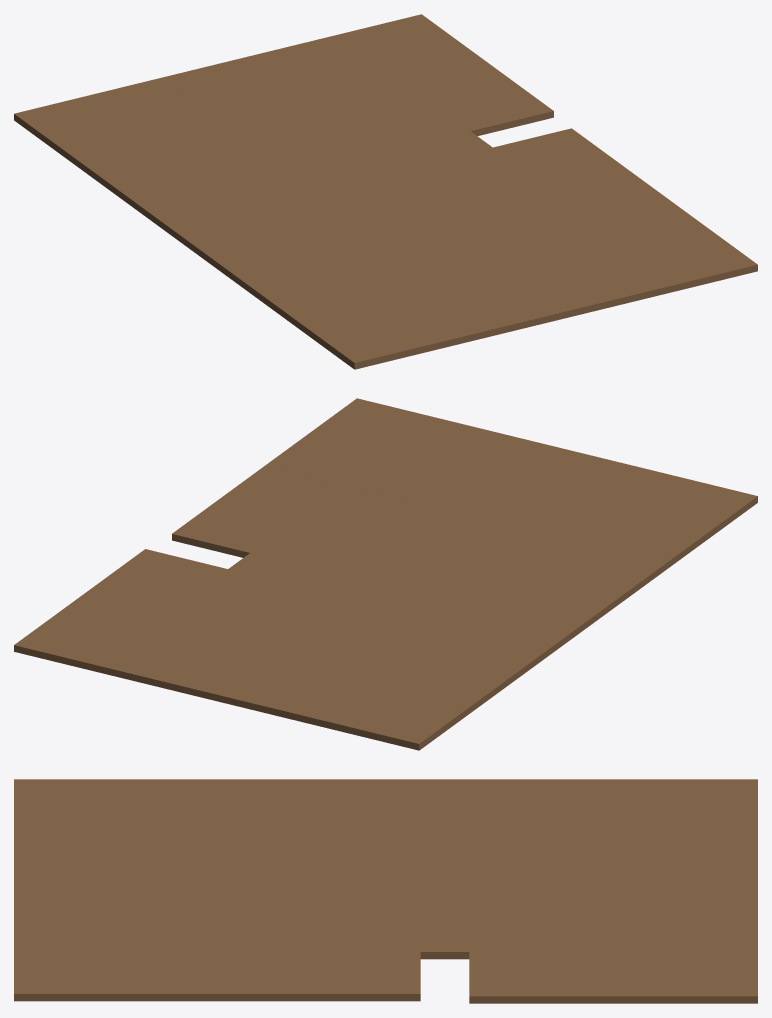
Rendered from Killhouse Floor.fbx.
3 renders of one model, top to bottom at view 1: azimuth 30°, elevation 25°; view 2: azimuth 150°, elevation 25°; view 3: azimuth 270°, elevation 25°, orthographic. The views are drawn at different scales.
Parts seen in each view (by area): view 1: Top Floor Studs.083, Top Floor Studs.086, Top Floor Studs.082, Top Floor Studs.085, Top Floor Studs.078, Top Floor Studs.080, Top Floor Studs.064, Top Floor Studs.060, Top Floor Studs.081, Top Floor Studs.061, Top Floor Studs.062, Top Floor Studs.063 (+23 smaller); view 2: Top Floor Studs.080, Top Floor Studs.081, Top Floor Studs.083, Top Floor Studs.085, Top Floor Studs.086, Top Floor Studs.082, Top Floor Studs.078, Top Floor Studs.077, Top Floor Studs.088, Top Floor Studs.089, Top Floor Studs.064, Top Floor Studs.069 (+23 smaller); view 3: Top Floor Studs.078, Top Floor Studs.081, Top Floor Studs.082, Top Floor Studs.083, Top Floor Studs.085, Top Floor Studs.086, Top Floor Studs.077, Top Floor Studs.069, Top Floor Studs.064, Top Floor Studs.074, Top Floor Studs.080, Top Floor Studs.059 (+23 smaller).
Boxes of the visible parts, x1,y1,x2,y2 form: Top Floor Studs.083: (173,149,316,212); Top Floor Studs.086: (115,107,259,170); Top Floor Studs.082: (260,127,405,190); Top Floor Studs.085: (204,86,347,148); Top Floor Studs.078: (349,106,492,169); Top Floor Studs.080: (251,34,391,95); Top Floor Studs.064: (624,230,757,292); Top Floor Studs.060: (308,310,433,369); Top Floor Studs.081: (339,14,475,73); Top Floor Studs.061: (387,290,512,350); Top Floor Studs.062: (466,271,591,331); Top Floor Studs.063: (545,252,669,311); Top Floor Studs.080: (96,626,237,692); Top Floor Studs.081: (14,606,149,671); Top Floor Studs.083: (369,595,512,657); Top Floor Studs.085: (225,615,368,678); Top Floor Studs.086: (312,637,455,699); Top Floor Studs.082: (282,574,425,636); Top Floor Studs.078: (194,552,337,615); Top Floor Studs.077: (172,499,305,557); Top Floor Studs.088: (184,657,311,714); Top Floor Studs.089: (271,678,398,735); Top Floor Studs.064: (311,398,443,453); Top Floor Studs.069: (265,432,397,487); Top Floor Studs.078: (419,905,544,959); Top Floor Studs.081: (640,952,757,1003); Top Floor Studs.082: (419,858,544,905); Top Floor Studs.083: (419,811,544,858); Top Floor Studs.085: (544,858,668,905); Top Floor Studs.086: (544,811,668,858); Top Floor Studs.077: (317,947,420,1001); Top Floor Studs.069: (115,947,217,1001); Top Floor Studs.064: (14,947,115,1001); Top Floor Studs.074: (217,947,317,1001); Top Floor Studs.080: (640,905,757,951); Top Floor Studs.059: (544,952,640,1003).
Bounding box in the file's own units: 1079 × 16.92 × 1562.
